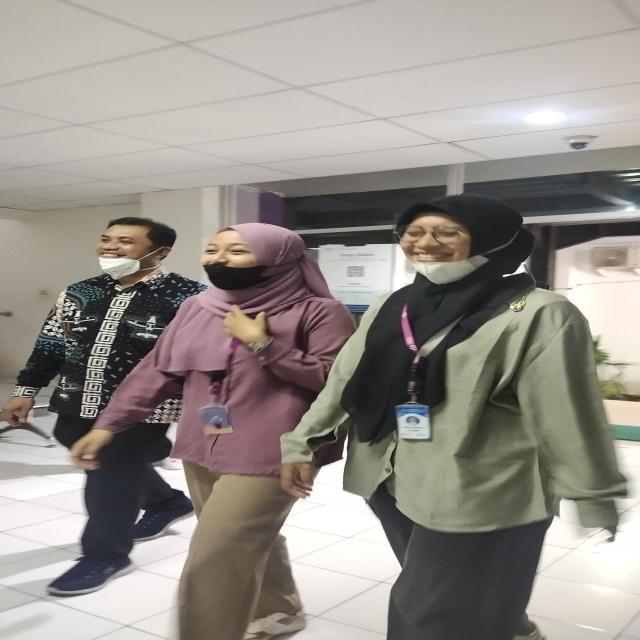hairnet: (387, 189, 528, 287), (201, 221, 311, 291), (91, 215, 179, 280)
